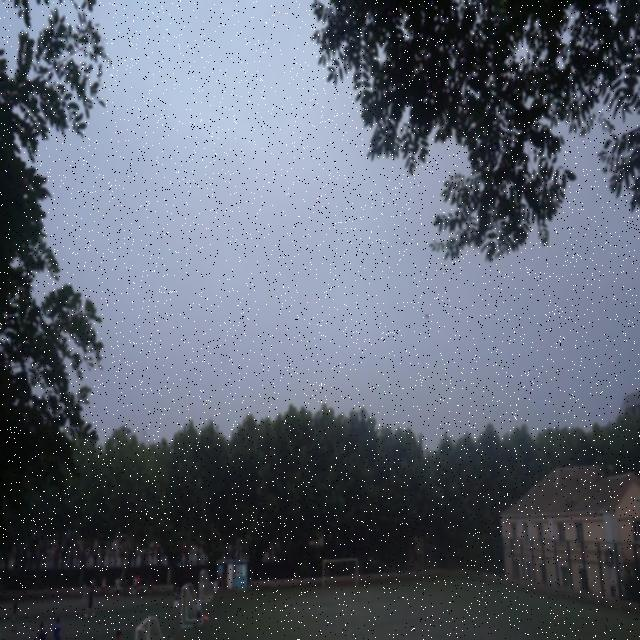UAV: (424, 314, 431, 319)
